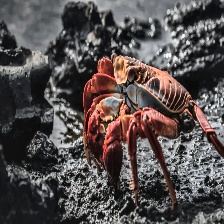crab: (81, 55, 222, 216)
